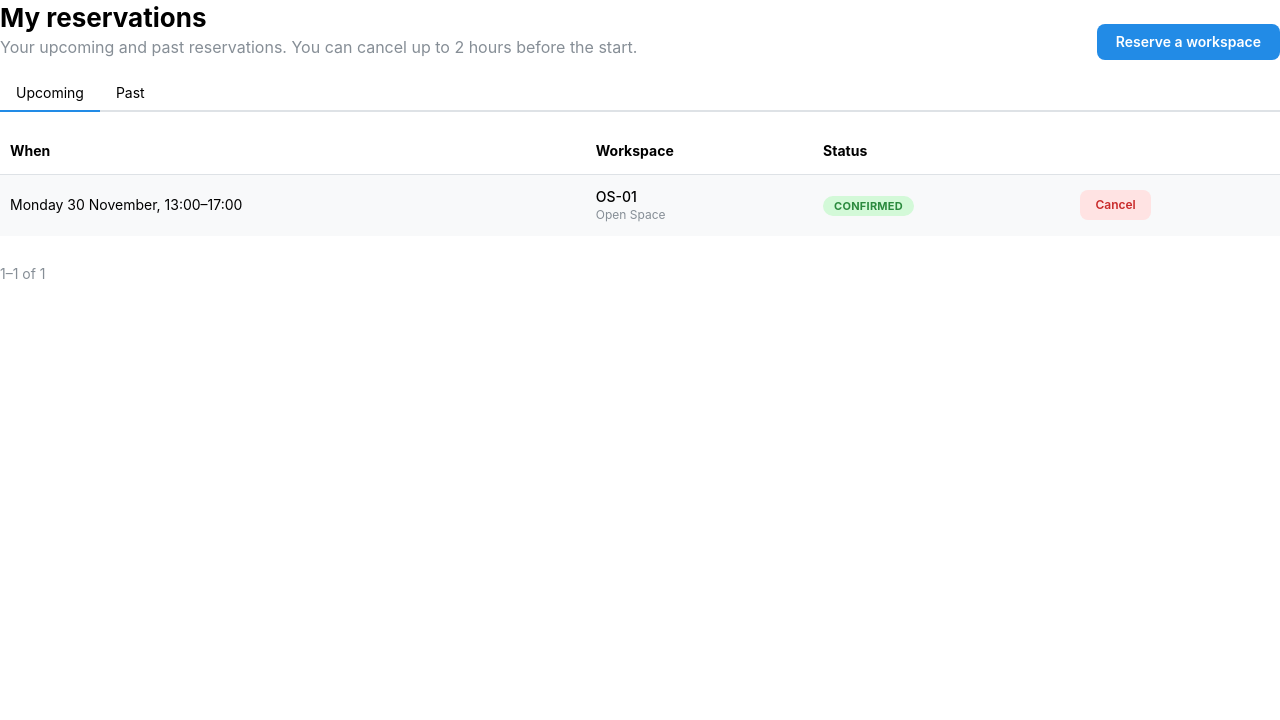
Test: MyReservationsPage › cancels a reservation after confirming, then reloads the list
The width and height of the screenshot is (1280, 720).
Later steps or results of the test are not shown.
Click the button with aria-label "Cancel OS-01, Monday 30 November, 13:00–17:00".
click(1116, 205)  # box [1080,190,1151,220]
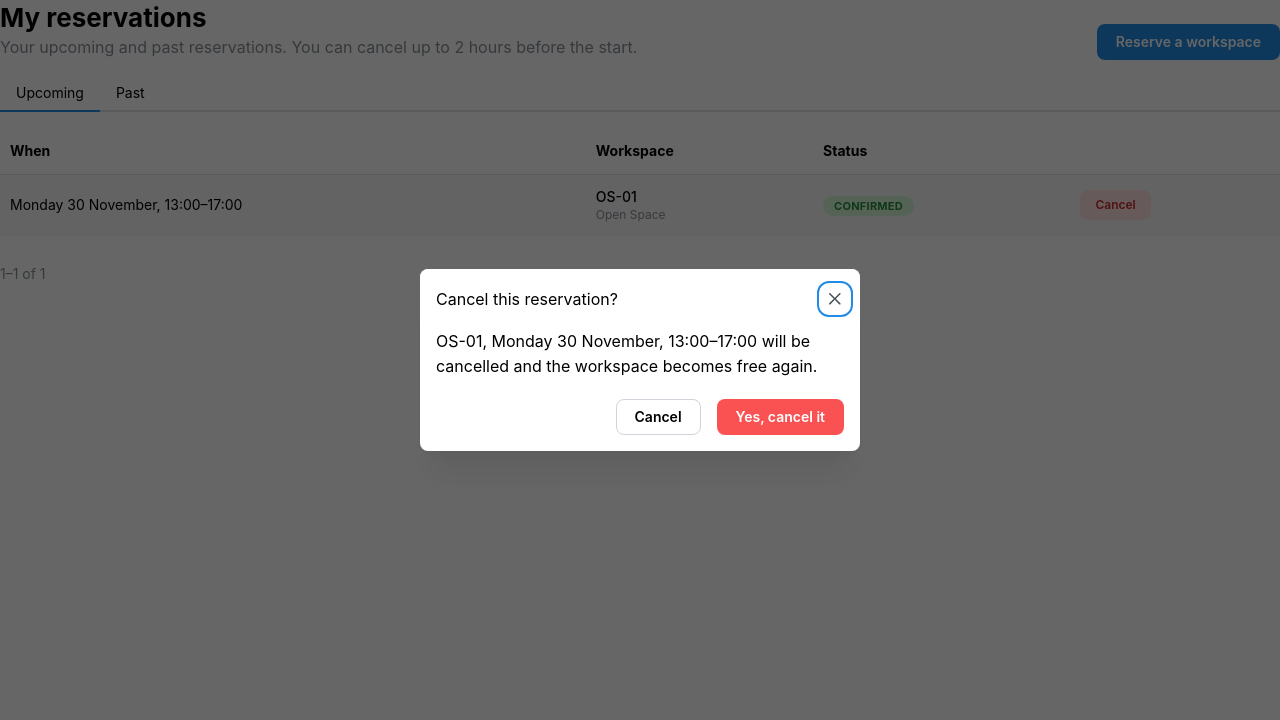
Expected: the text "OS-01, Monday 30 November, 13:00–17:00" is shown, [436,331,817,376]
